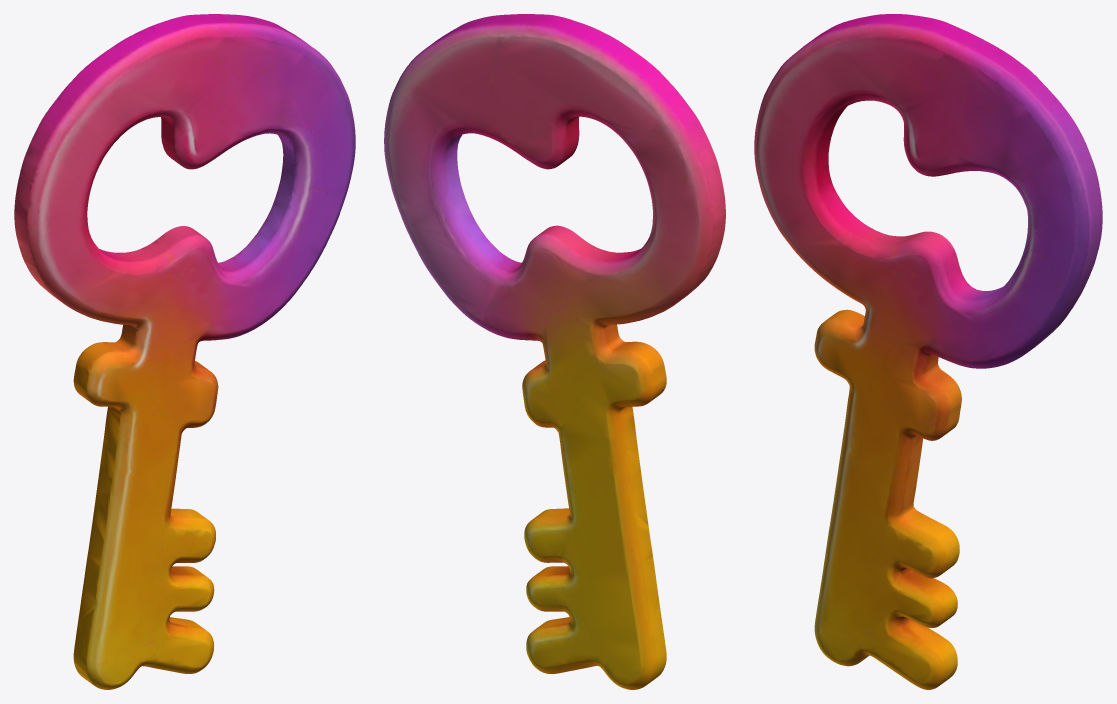
Rendered from key__main__r3__p2.glb.
The picture shows the model from 3 angles, left to right: view 1: azimuth 30°, elevation 25°; view 2: azimuth 150°, elevation 25°; view 3: azimuth 330°, elevation 25°; orthographic projection.
Parts seen in each view (by area): view 1: model; view 2: model; view 3: model.
Part boxes in pixels (box(x1,y1,x2,y2)): model: box(14, 14, 355, 689); model: box(384, 14, 725, 689); model: box(754, 14, 1102, 689).
Size of the model in its own units: 1 by 1.88 by 0.1149.
1 material, 1 textured.
